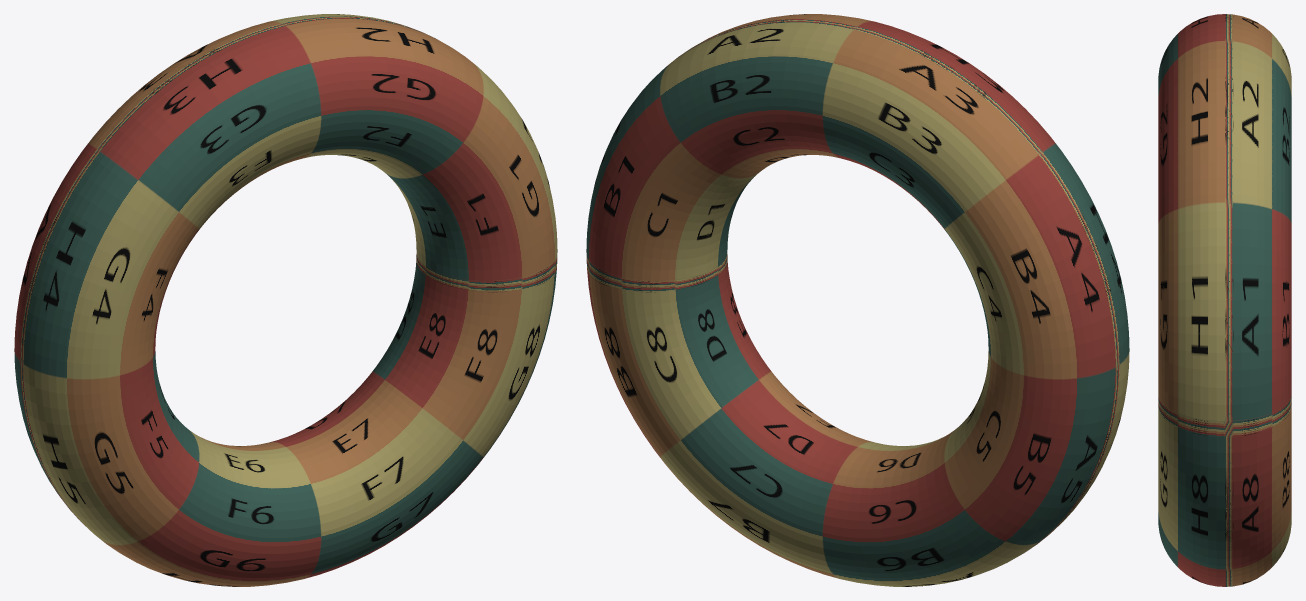
The model's file is texture_torus_R9_r8.glb.
The picture shows the model from 3 angles, left to right: view 1: azimuth 30°, elevation 25°; view 2: azimuth 150°, elevation 25°; view 3: azimuth 270°, elevation 25°; orthographic projection. The views are drawn at different scales.
Parts seen in each view (by area): view 1: world; view 2: world; view 3: world.
Boxes of the visible parts, x1,y1,x2,y2 form: world: (14, 14, 557, 586); world: (586, 14, 1129, 586); world: (1158, 14, 1291, 586).
Bounding box in the file's own units: 39.11 × 39.11 × 9.09.
1 material, 1 textured.
